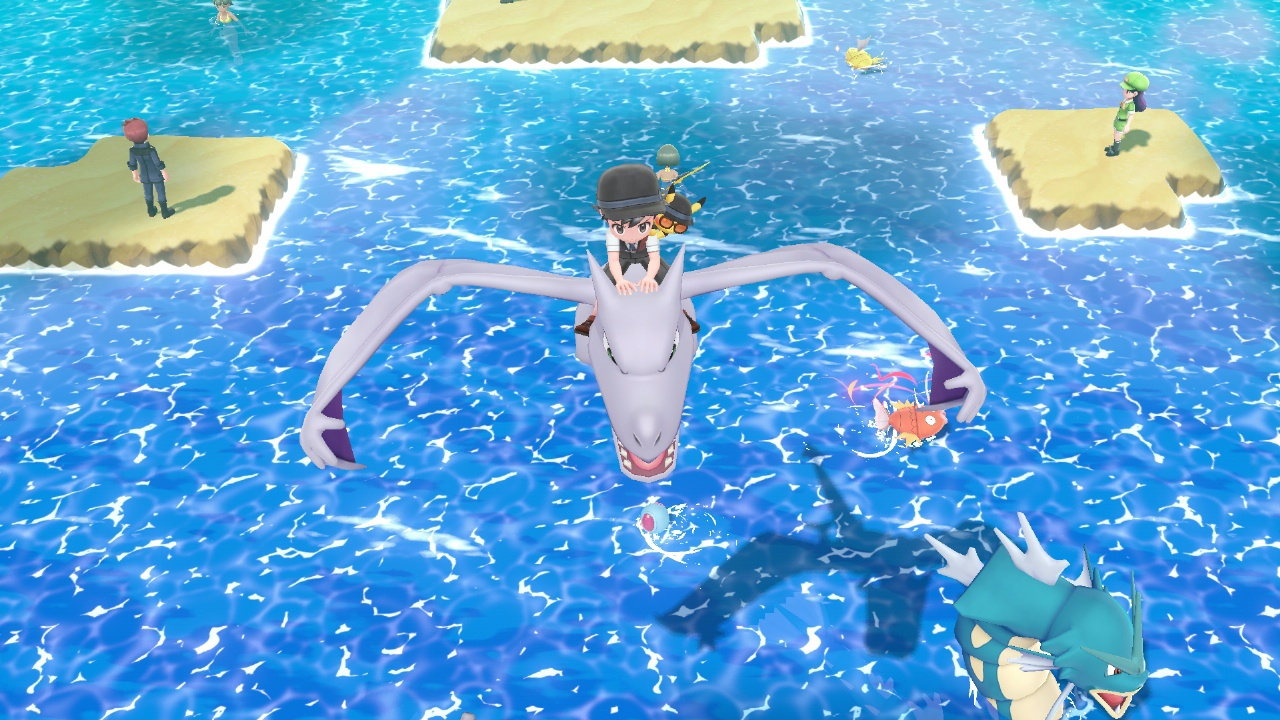Golden: (845, 36, 885, 76)
Red: (871, 402, 950, 448)
